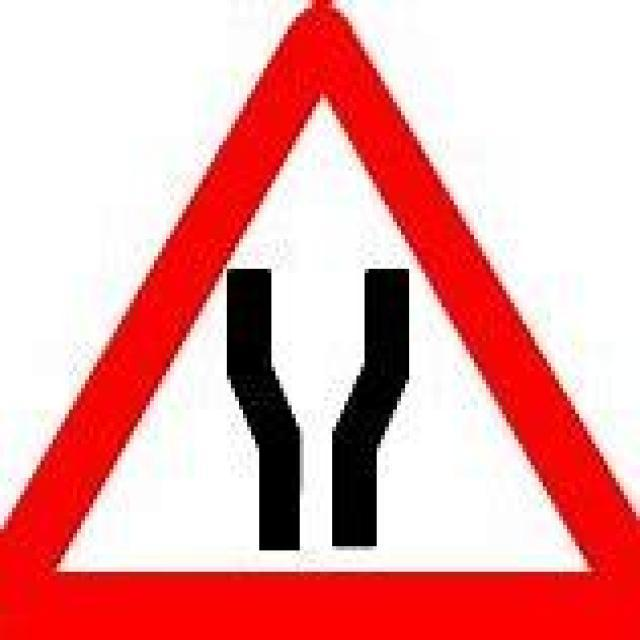road widens ahead: (16, 15, 621, 628)
